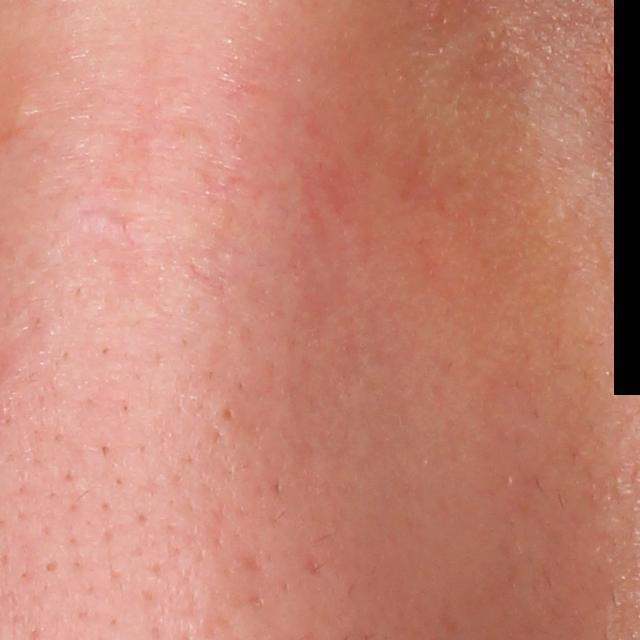comedo: (38, 553, 63, 580), (215, 402, 243, 425)
